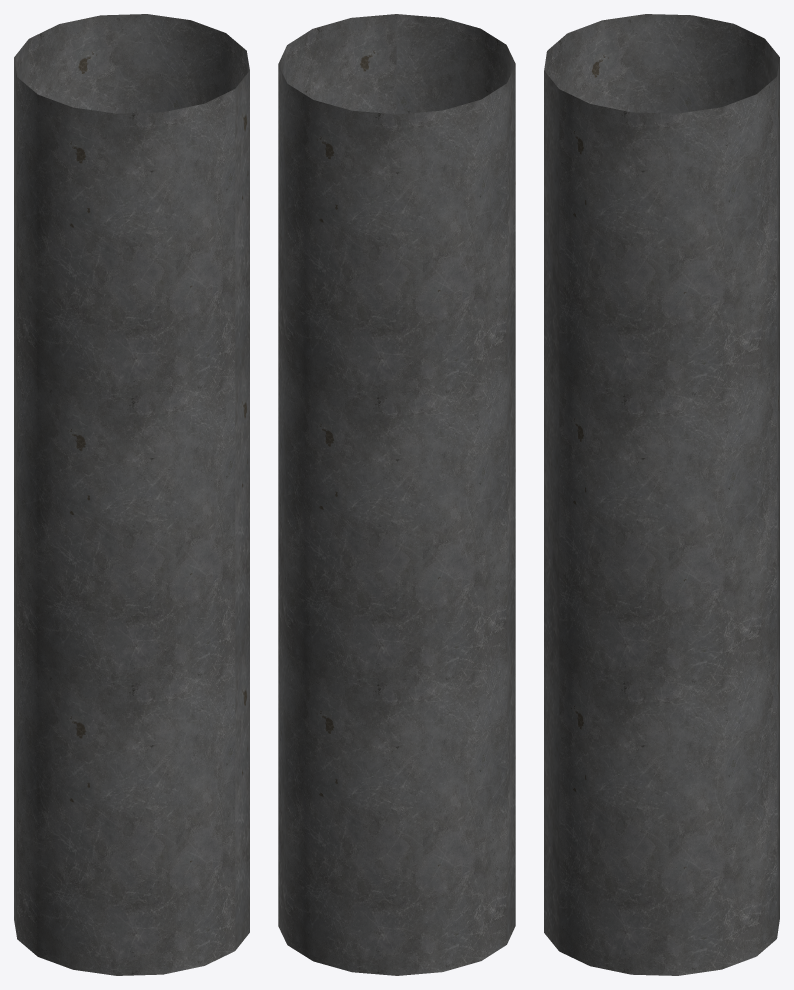
File: col_02.obj
3 views of the same model, side by side, from view 1: azimuth 30°, elevation 25°; view 2: azimuth 150°, elevation 25°; view 3: azimuth 270°, elevation 25° (orthographic).
Parts seen in each view (by area): view 1: pCylinder3; view 2: pCylinder3; view 3: pCylinder3.
Part boxes in pixels (bbox=[...]): pCylinder3: bbox=[14, 14, 249, 975]; pCylinder3: bbox=[278, 14, 515, 975]; pCylinder3: bbox=[544, 14, 779, 975].
Bounding box in the file's own units: 99.1 × 400 × 99.1.
Materials: 1 (1 with a texture image).
